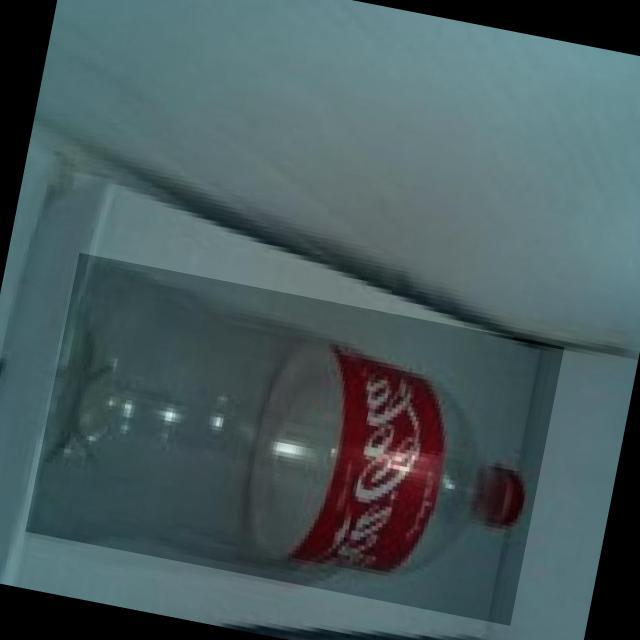good: (24, 252, 564, 626)
